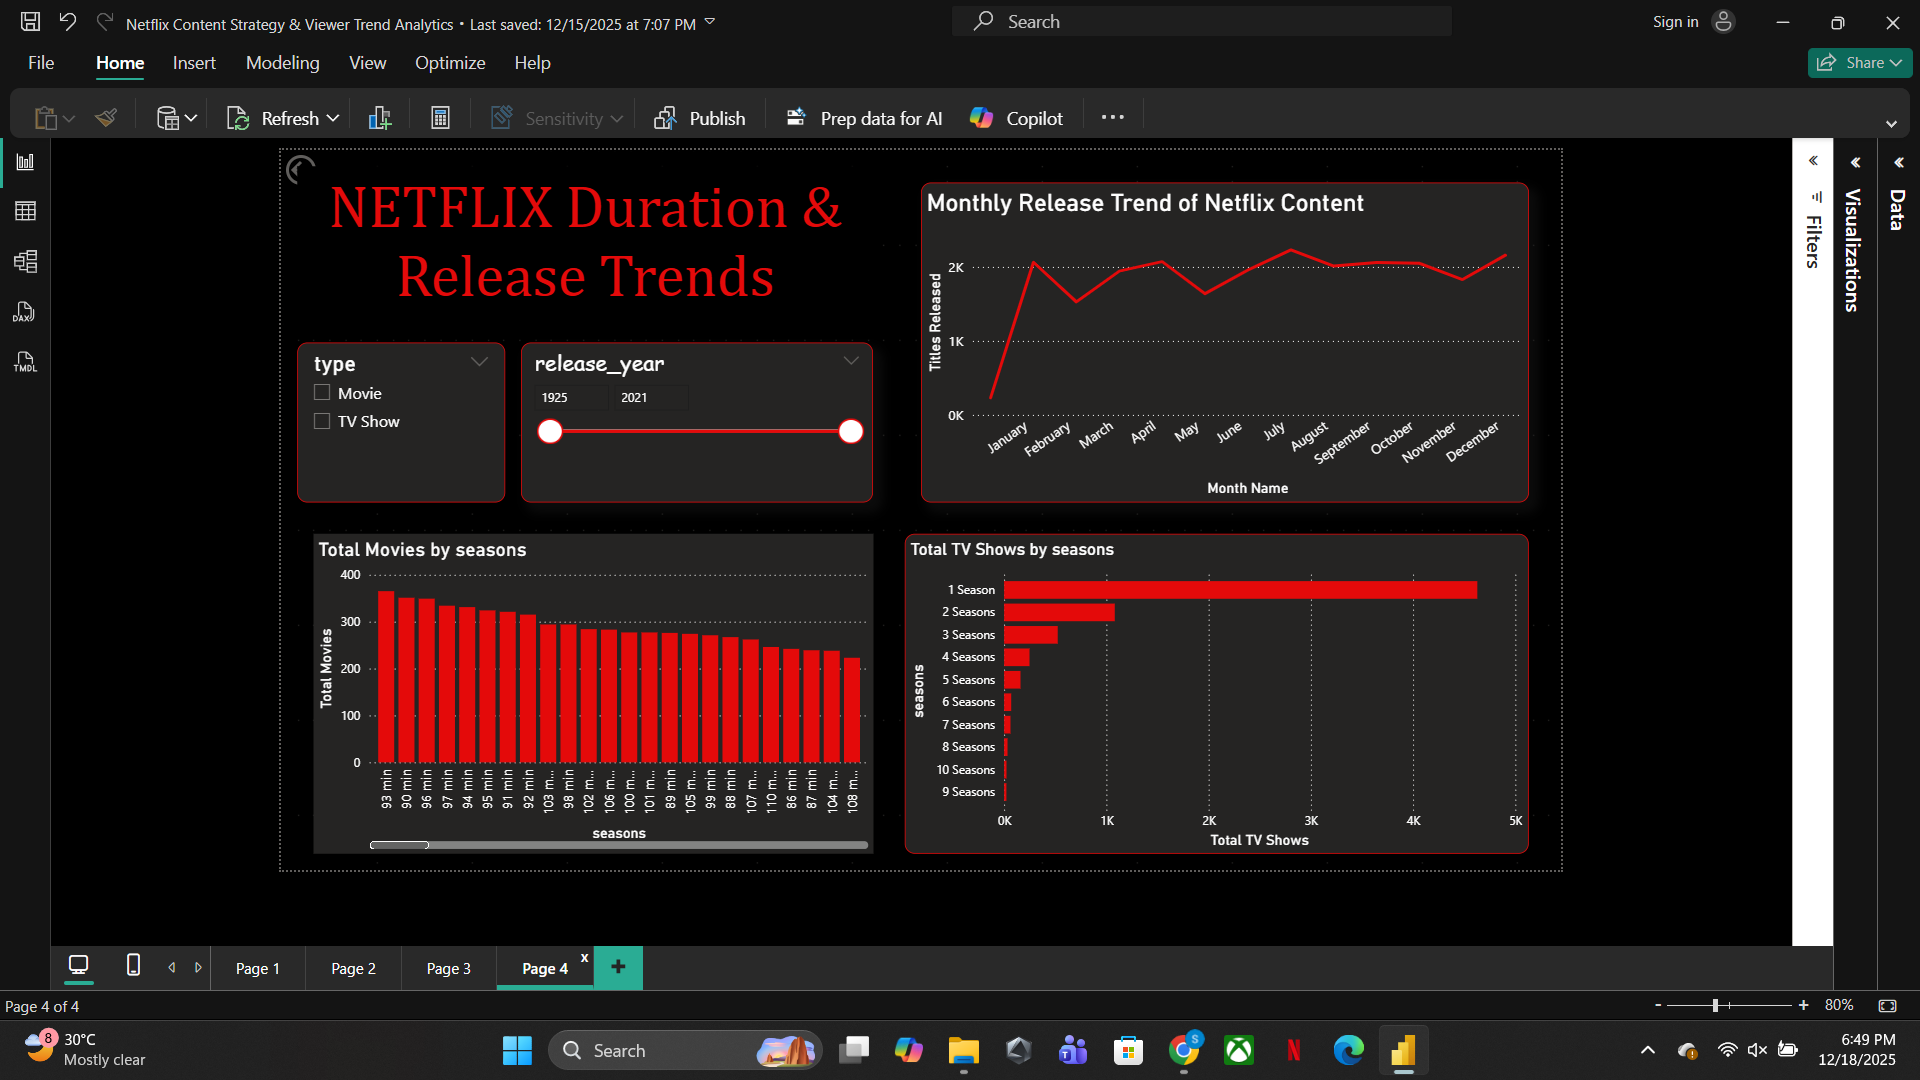

The page's visual inventory and layout, read from the dashboard file:
{"tool":"powerbi","page":{"name":"Page 4","canvas":[1280,720],"ordinal":3},"visuals":[{"type":"clusteredBarChart","fields":{"Category":["cleaned_netflix_data.seasons"],"Y":["cleaned_netflix_data.Total TV Shows"]},"box":[624,384,624,320],"z":0},{"type":"clusteredColumnChart","fields":{"Category":["cleaned_netflix_data.seasons"],"Y":["cleaned_netflix_data.Total Movies"]},"box":[32,384,560,320],"z":1000},{"type":"actionButton","box":[0,0,100,40],"z":2000},{"type":"lineChart","title":"Monthly Release Trend of Netflix Content","fields":{"Category":["cleaned_netflix_data.Month Name"],"Y":["cleaned_netflix_data.Titles Released"]},"box":[640,32,608,320],"z":3000},{"type":"slicer","fields":{"Values":["cleaned_netflix_data.type"]},"box":[16,192,208,160],"z":4000},{"type":"slicer","fields":{"Values":["cleaned_netflix_data.release_year"]},"box":[240,192,352,160],"z":4001},{"type":"textbox","box":[16,16,576,160],"z":4002}]}

Visuals, with their boxes on the page's 1280x720 design canvas (x1, y1, x2, y2). These are canvas units, not pixel positions in the 1920x1080 screenshot, which may show the page scaled, cropped or inside an application window:
clusteredBarChart - cleaned_netflix_data.seasons x cleaned_netflix_data.Total TV Shows: Rect(624, 384, 1248, 704)
clusteredColumnChart - cleaned_netflix_data.seasons x cleaned_netflix_data.Total Movies: Rect(32, 384, 592, 704)
actionButton: Rect(0, 0, 100, 40)
"Monthly Release Trend of Netflix Content" lineChart: Rect(640, 32, 1248, 352)
slicer - cleaned_netflix_data.type: Rect(16, 192, 224, 352)
slicer - cleaned_netflix_data.release_year: Rect(240, 192, 592, 352)
textbox: Rect(16, 16, 592, 176)
